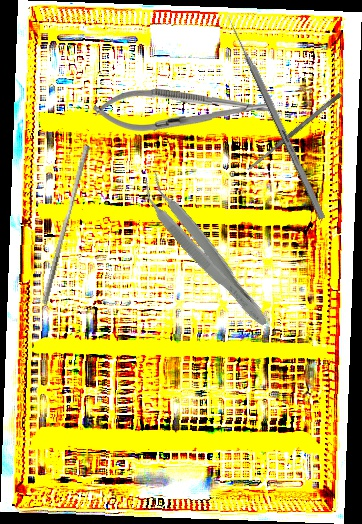Needle Holder: (91, 86, 276, 133)
Pusher: (223, 11, 327, 221), (41, 142, 91, 308)
Spatula Surgical: (245, 91, 343, 173)
Tissue Forceps: (131, 169, 280, 332)
